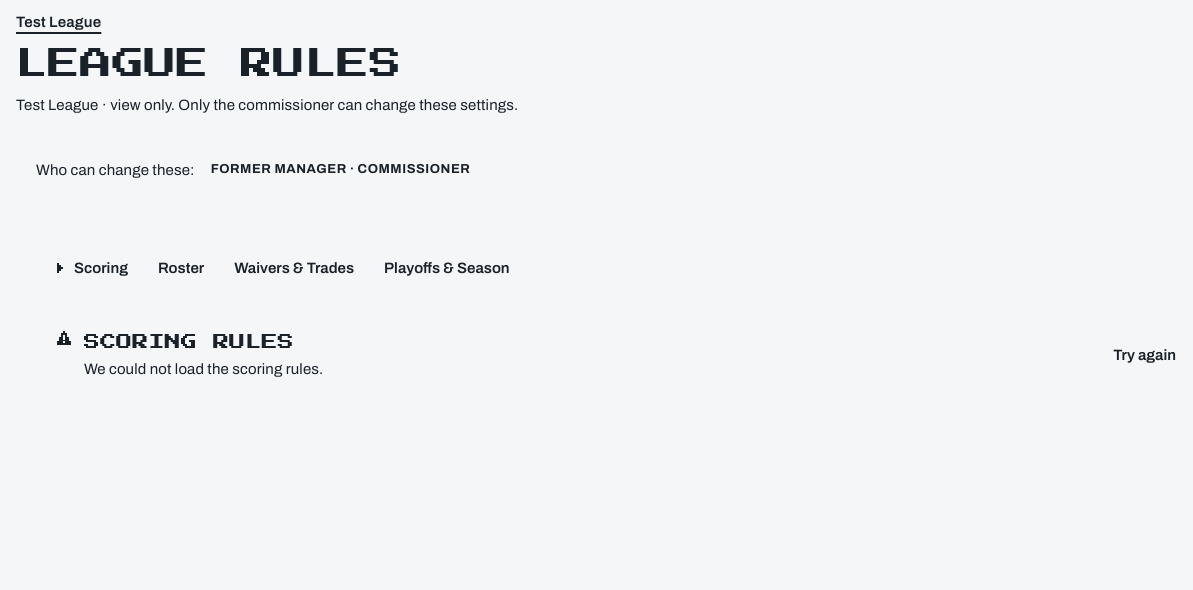
Test: LeagueRules › keeps the other tabs usable when scoring defaults fail to load
Expected: the text "We could not load the scoring rules." is shown, [84,358,323,381]
Click the tab "Roster" at [181, 268], box [142,246,220,290]
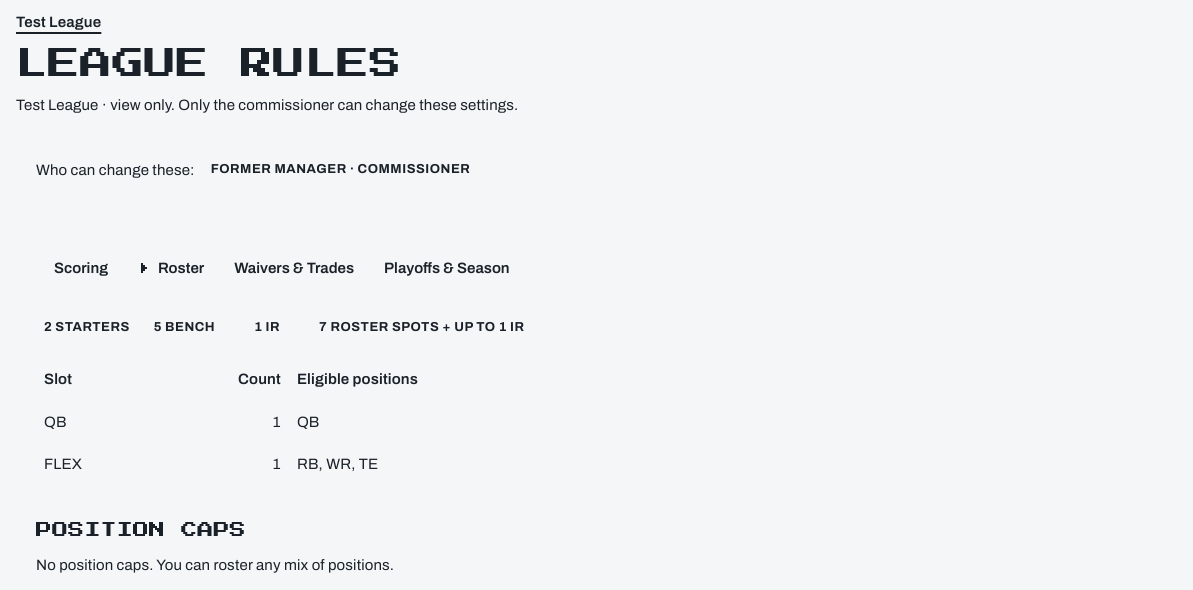
Expected: the text "7 roster spots + up to 1 IR" is shown, [319,320,524,334]
